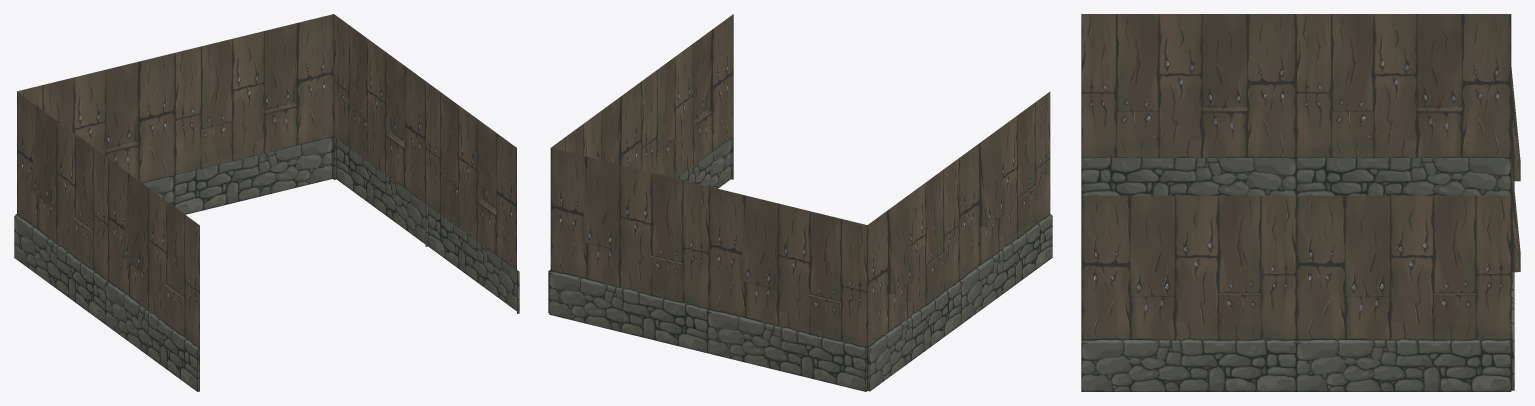
Rendered from polysurface580_tx_nex_mur_0_lev1_lev2.glb.
3 views of the same model, side by side, from view 1: azimuth 30°, elevation 25°; view 2: azimuth 150°, elevation 25°; view 3: azimuth 270°, elevation 25° (orthographic). The views are drawn at different scales.
Parts seen in each view (by area): view 1: polysurface580_tx_nex_mur_0_lev1_lev2; view 2: polysurface580_tx_nex_mur_0_lev1_lev2; view 3: polysurface580_tx_nex_mur_0_lev1_lev2.
Part boxes in pixels (x1,y1,x2,y2): polysurface580_tx_nex_mur_0_lev1_lev2: (14,14,519,391); polysurface580_tx_nex_mur_0_lev1_lev2: (548,14,1052,391); polysurface580_tx_nex_mur_0_lev1_lev2: (1081,14,1520,391).
Size of the model in its own units: 6.4 by 3.07 by 6.27.
1 material, 1 textured.
